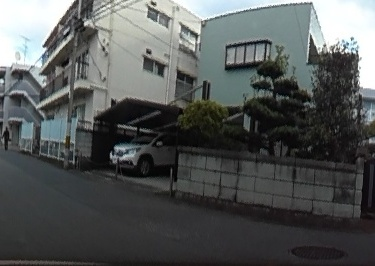person: (1, 125, 10, 149)
